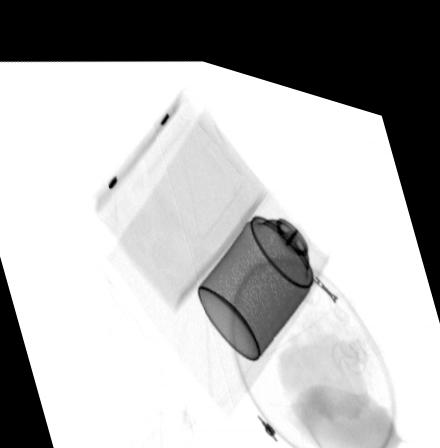Sprayer: (194, 167, 333, 347)
